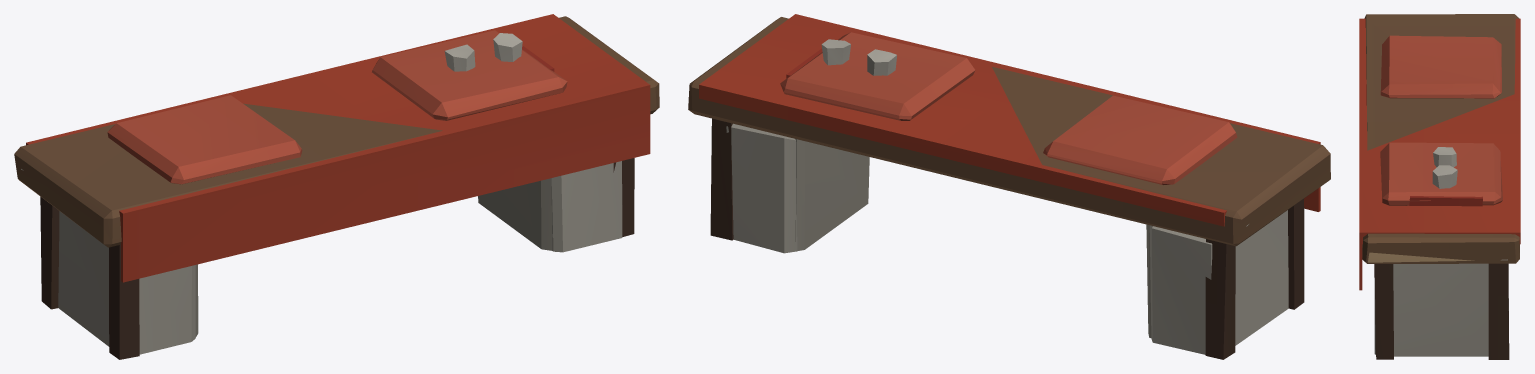
File: bench.glb
3 renders of one model, left to right at view 1: azimuth 30°, elevation 25°; view 2: azimuth 150°, elevation 25°; view 3: azimuth 270°, elevation 25°, orthographic. The views are drawn at different scales.
Visible parts, largest first — view 1: bench.v0.mesh, bench.v1.mesh, bench.v2.mesh; view 2: bench.v1.mesh, bench.v0.mesh, bench.v2.mesh; view 3: bench.v1.mesh, bench.v0.mesh, bench.v2.mesh.
Boxes of the visible parts, x1,y1,x2,y2 form: bench.v0.mesh: [26, 14, 650, 359]; bench.v1.mesh: [14, 16, 659, 354]; bench.v2.mesh: [21, 30, 567, 337]; bench.v1.mesh: [688, 17, 1330, 354]; bench.v0.mesh: [699, 14, 1320, 359]; bench.v2.mesh: [780, 32, 1248, 337]; bench.v1.mesh: [1362, 14, 1519, 356]; bench.v0.mesh: [1359, 18, 1520, 359]; bench.v2.mesh: [1380, 35, 1507, 260].
Bounding box in the file's own units: 1.69 × 0.54 × 0.5099.
